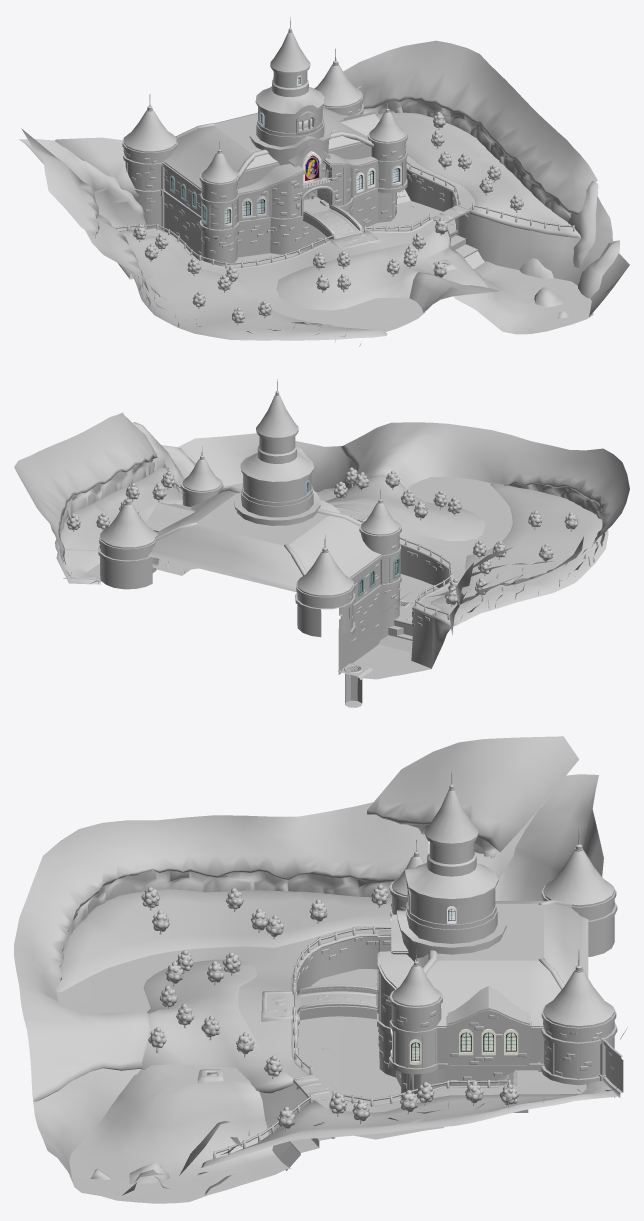
3 renders of one model, top to bottom at view 1: azimuth 30°, elevation 25°; view 2: azimuth 150°, elevation 25°; view 3: azimuth 270°, elevation 25°, orthographic. The views are drawn at different scales.
Parts seen in each view (by area): view 1: Grass, Castle, Windows.001; view 2: Grass, Castle; view 3: Grass, Castle, Windows.001.
Boxes of the visible parts, <box> form: Grass: <box>19,40,629,346</box>; Castle: <box>122,17,470,265</box>; Windows.001: <box>170,75,401,226</box>; Grass: <box>14,412,629,707</box>; Castle: <box>63,379,443,674</box>; Grass: <box>14,736,627,1203</box>; Castle: <box>261,766,623,1138</box>; Windows.001: <box>390,841,518,1064</box>.
Size of what is drawn, in the model's own units: 305 by 162 by 258.
